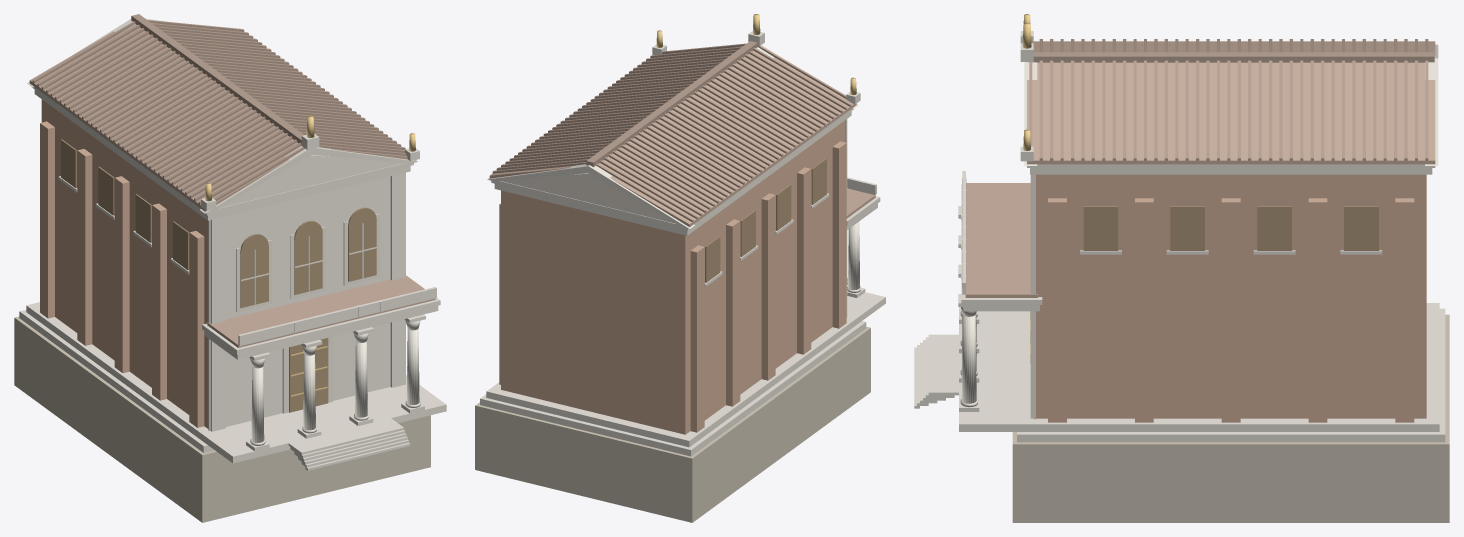
The model's file is curia.glb.
3 renders of one model, left to right at view 1: azimuth 30°, elevation 25°; view 2: azimuth 150°, elevation 25°; view 3: azimuth 270°, elevation 25°, orthographic. The views are drawn at different scales.
Visible parts, largest first — view 1: marble, brick, tile2, stucco, stone, tile, bronze, gold; view 2: brick, tile2, stone, marble, tile, stucco, bronze; view 3: brick, tile, stone, marble, tile2, bronze, stucco.
Part boxes in pixels (left/top/right/bottom): marble: left=19, top=19, right=446, bottom=470; brick: left=40, top=99, right=208, bottom=428; tile2: left=32, top=14, right=406, bottom=204; stucco: left=208, top=155, right=405, bottom=431; stone: left=14, top=316, right=430, bottom=522; tile: left=29, top=24, right=435, bottom=347; bronze: left=61, top=139, right=376, bottom=412; gold: left=205, top=116, right=415, bottom=396; brick: left=499, top=120, right=846, bottom=434; tile2: left=492, top=41, right=851, bottom=222; stone: left=475, top=326, right=870, bottom=522; marble: left=480, top=31, right=885, bottom=456; tile: left=489, top=50, right=875, bottom=227; stucco: left=501, top=119, right=847, bottom=317; bronze: left=705, top=158, right=826, bottom=282; brick: left=1036, top=174, right=1426, bottom=422; tile: left=965, top=41, right=1435, bottom=297; stone: left=1012, top=314, right=1449, bottom=522; marble: left=914, top=31, right=1445, bottom=442; tile2: left=1028, top=39, right=1434, bottom=160; bronze: left=1083, top=206, right=1378, bottom=250; stucco: left=1030, top=174, right=1035, bottom=419.
Bounding box in the file's own units: 21.2 × 33.07 × 37.
